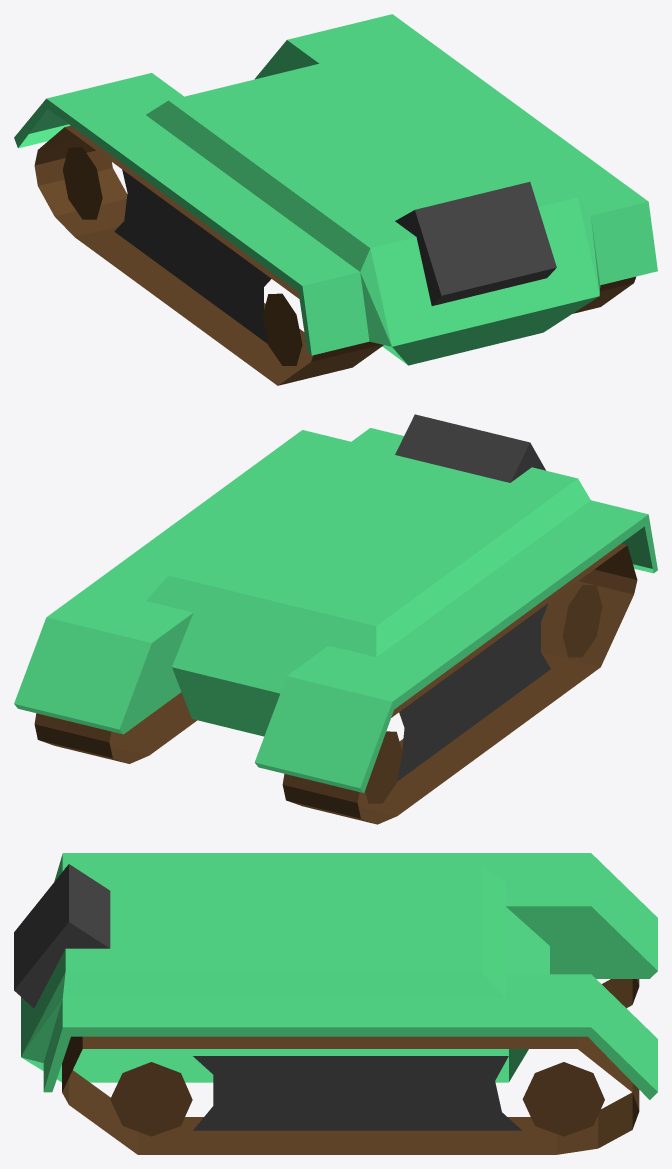
File: caterpillar.FBX
3 renders of one model, top to bottom at view 1: azimuth 30°, elevation 25°; view 2: azimuth 150°, elevation 25°; view 3: azimuth 270°, elevation 25°, orthographic. The views are drawn at different scales.
Visible parts, largest first — view 1: VIFS002, VIFS003, VIFS001; view 2: VIFS002, VIFS001, VIFS003; view 3: VIFS002, VIFS001, VIFS003.
Boxes of the visible parts, bbox=[...] form: VIFS002: bbox=[14, 14, 657, 365]; VIFS003: bbox=[114, 169, 556, 343]; VIFS001: bbox=[34, 125, 635, 385]; VIFS002: bbox=[14, 428, 657, 792]; VIFS001: bbox=[34, 543, 637, 824]; VIFS003: bbox=[395, 414, 550, 781]; VIFS002: bbox=[21, 853, 657, 1099]; VIFS001: bbox=[62, 979, 639, 1154]; VIFS003: bbox=[14, 864, 521, 1130].
Bounding box in the file's own units: 1.2 × 0.58 × 1.87.
